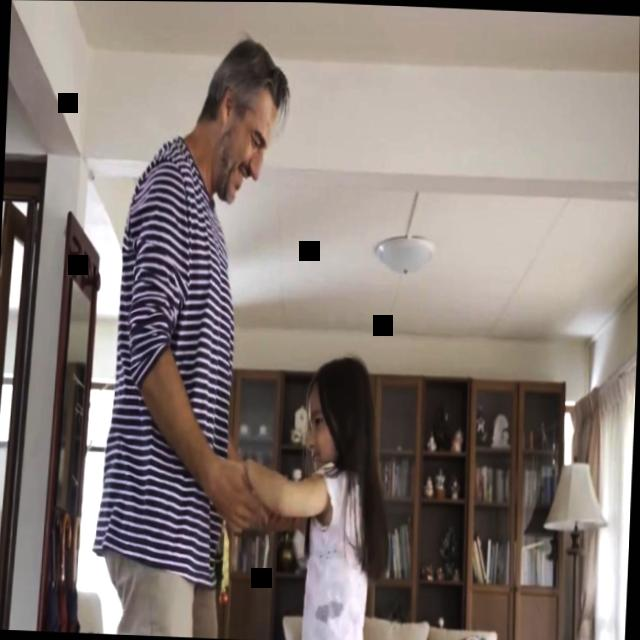NO-Mask: (221, 91, 279, 208), (305, 389, 336, 472)
